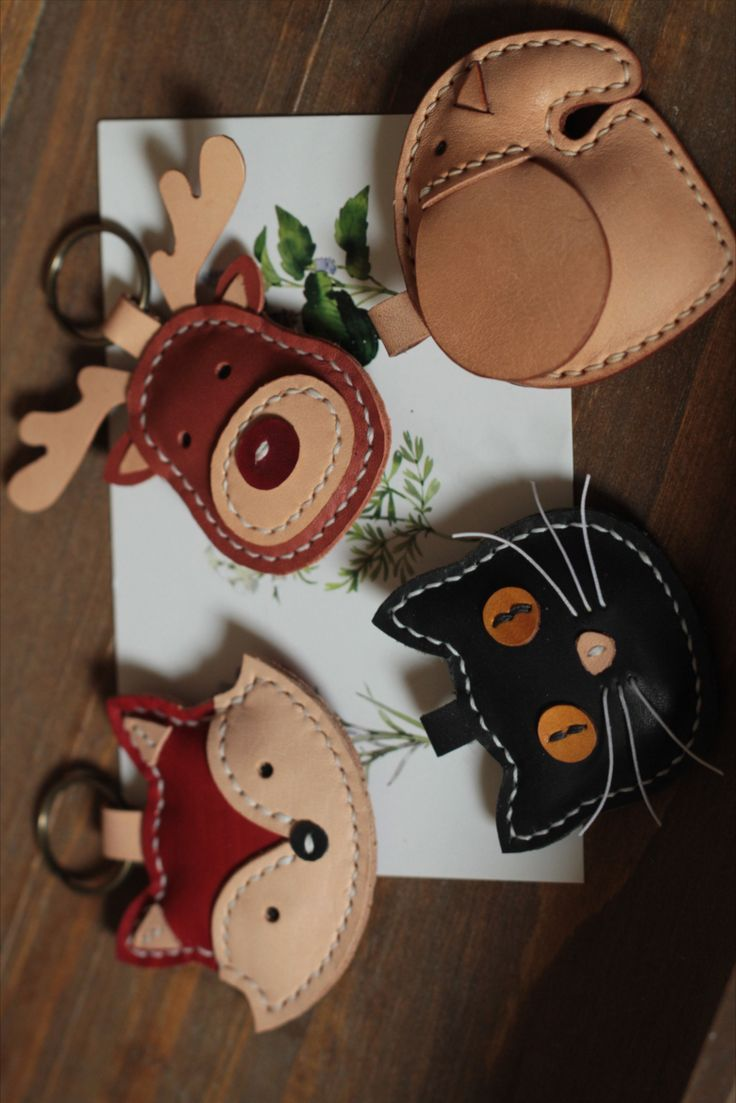cuero: (10, 32, 736, 1036)
